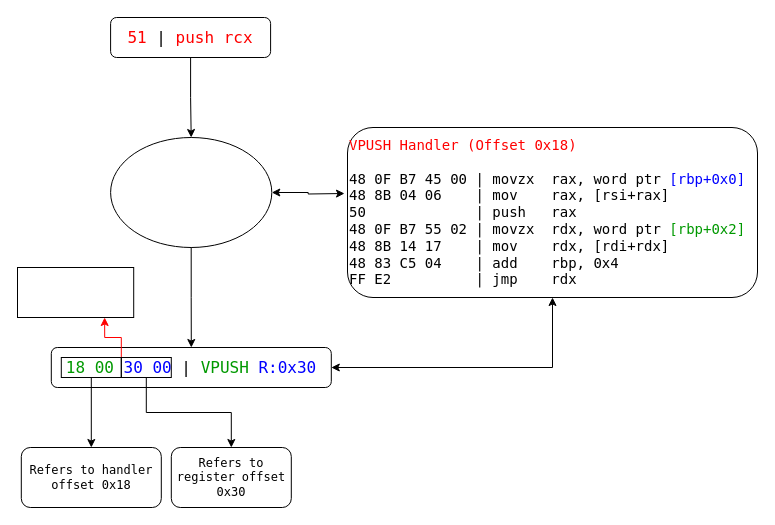
Some shapes in this 775 by 525 pixel diagram are drawn without their labels. Here are the shapes that lost their labels. From the top down, the centre of each, then its label:
At (191,192): "Virtualization Compiler".
At (75,292): "On handler execution, VIP points to here".
